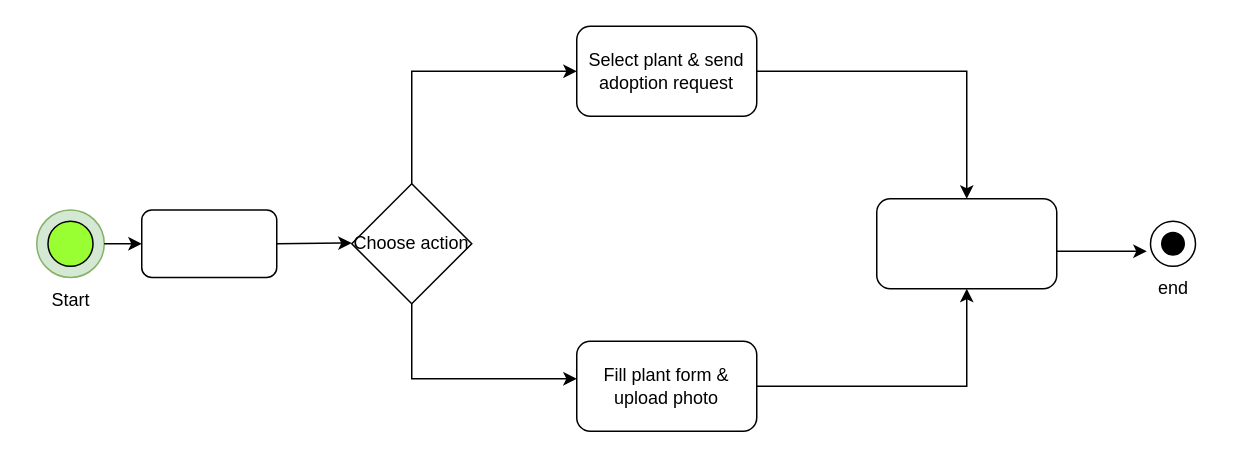
The diagram is 1244 pixels wide and 458 high, and some of its shapes have lost their labels. The shapes that lost their labels are listed below. From the top down, each one's centre as x and y in pixels, then its label:
the point at 208,243: Open plant swap hub
the point at 966,243: Notify owner
